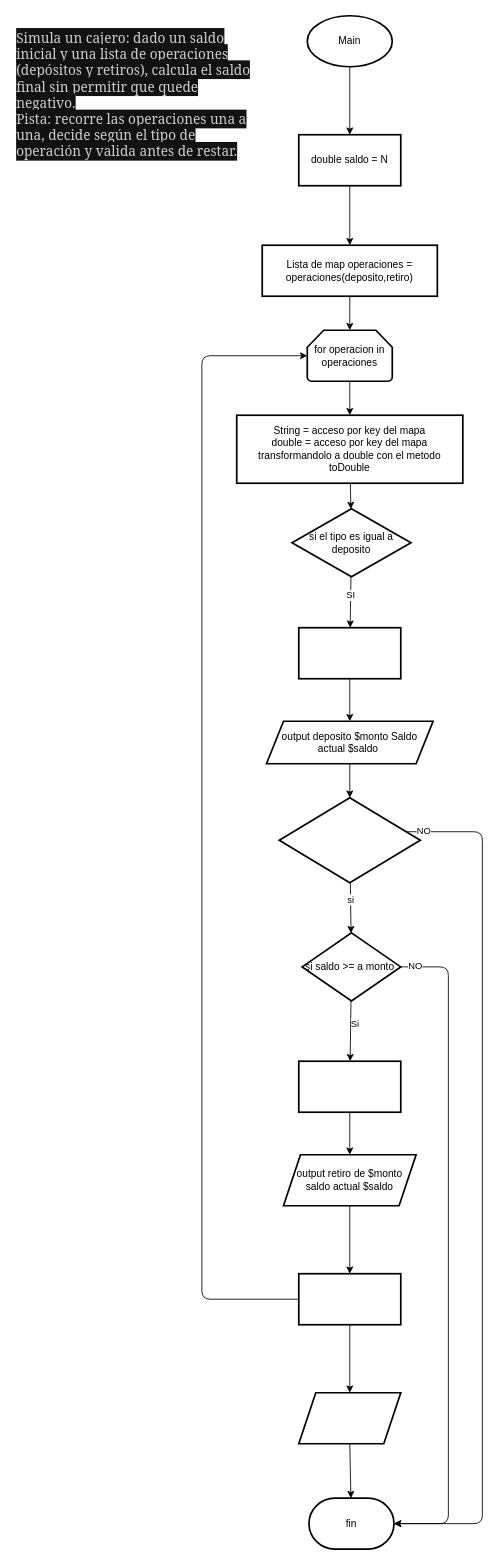
Image size: 504x1564. Some labels were removed from this diagram. Each missing label, with the box of its shape:
asignacion compuesta saldo -= monto: (298, 1060, 401, 1113)
hacemos asignacion compuesta saldo += monto: (298, 626, 401, 679)
output saldo final $saldo: (298, 1391, 401, 1444)
sino no se puede retirar $monto saldo insuficiente $saldo: (298, 1272, 401, 1325)
sino si tipo es igual a retiro: (278, 796, 421, 883)
